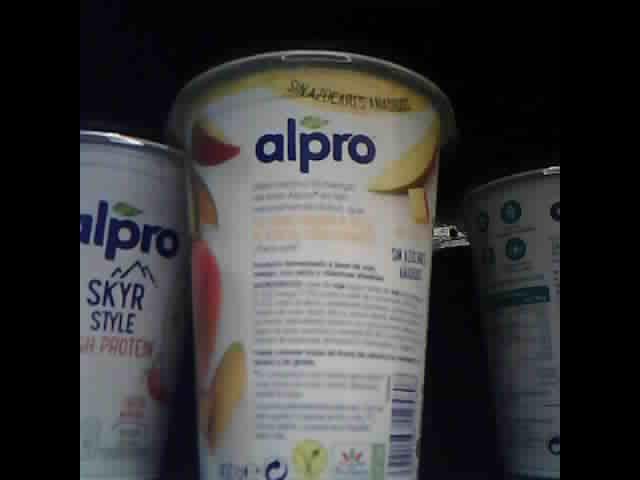alpro: (172, 50, 454, 480), (81, 116, 191, 480), (464, 166, 560, 479)
